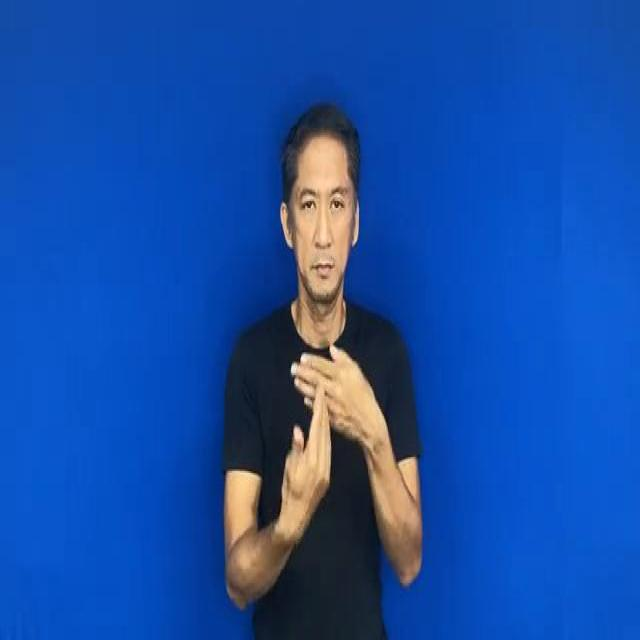bread: (276, 328, 384, 506)
